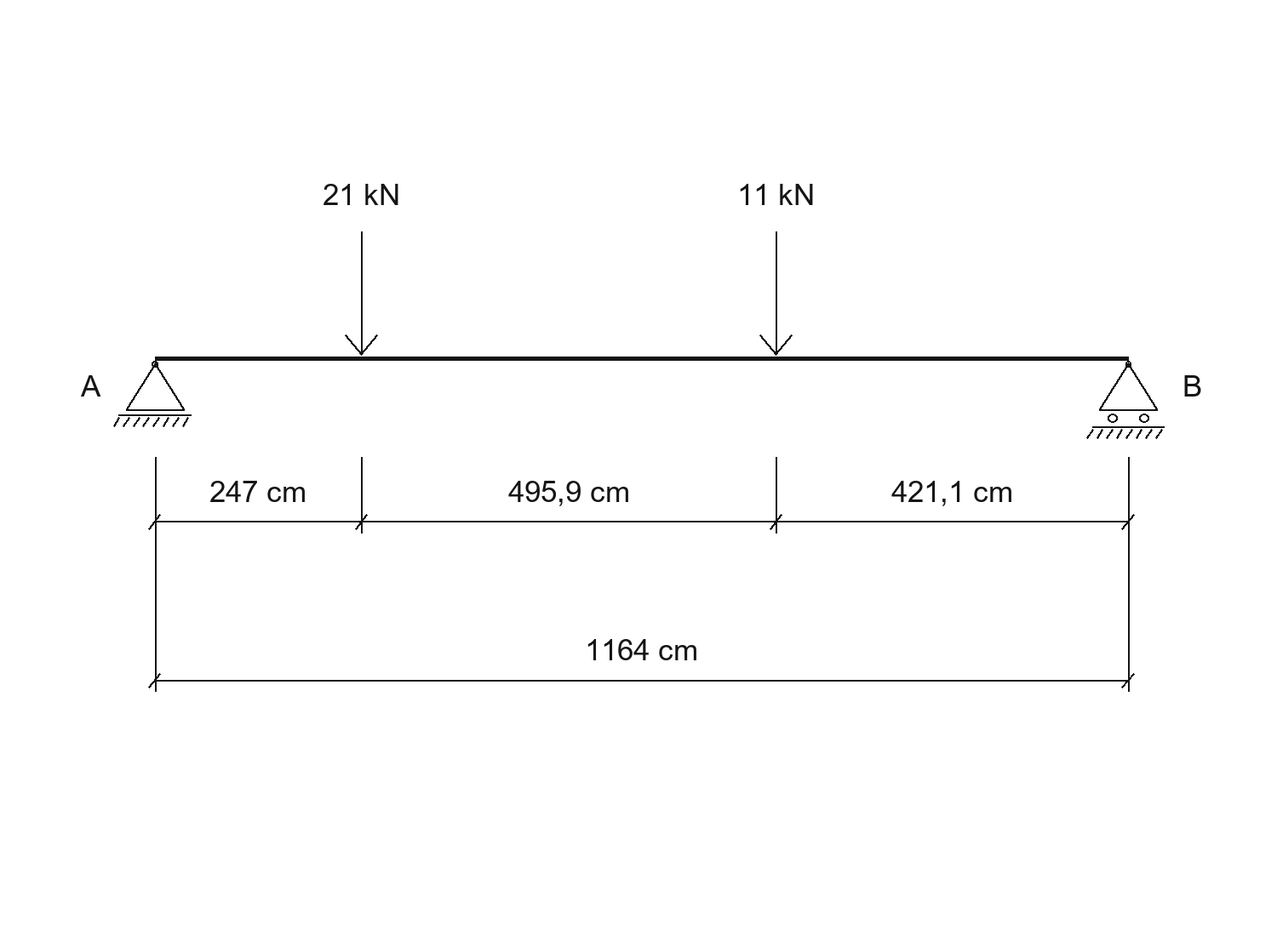pin_support: (113, 361, 192, 427)
point_load: (759, 231, 793, 356), (345, 231, 378, 356)
roller_support: (1086, 361, 1165, 439)
